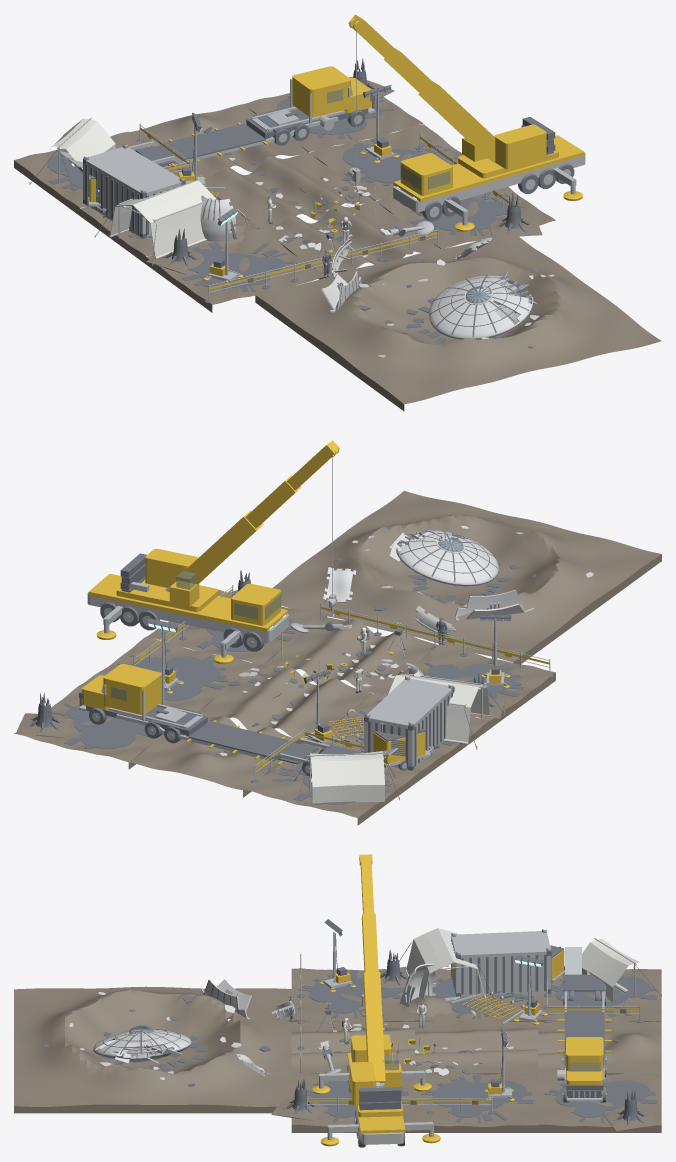
File: ufo-crash-site-and-recovery-facility-cra-b0569196-starter-scene__17375.glb
3 renders of one model, top to bottom at view 1: azimuth 30°, elevation 25°; view 2: azimuth 150°, elevation 25°; view 3: azimuth 270°, elevation 25°, orthographic. The views are drawn at different scales.
Visible parts, largest first — view 1: 000-impact-crater/0, 028-heavy-lift-crane/1, 002-crash-furrow-tile/0, 001-crash-furrow-tile/0, 010-scout-disc-damaged/0, 032-tarpaulin-cover-frame/1, 037-transport-crate/0, 004-scorched-ground-tile/0, 003-crash-furrow-tile-end/0, 028-heavy-lift-crane/boom, 047-recovery-tractor-unit/22, 007-scorched-ground-tile/0 (+23 smaller); view 2: 000-impact-crater/0, 028-heavy-lift-crane/1, 002-crash-furrow-tile/0, 001-crash-furrow-tile/0, 003-crash-furrow-tile-end/0, 037-transport-crate/0, 010-scout-disc-damaged/0, 033-field-tent/0, 028-heavy-lift-crane/boom, 008-scorched-ground-tile/0, 004-scorched-ground-tile/0, 047-recovery-tractor-unit/22 (+24 smaller); view 3: 000-impact-crater/0, 002-crash-furrow-tile/0, 037-transport-crate/0, 007-scorched-ground-tile/0, 003-crash-furrow-tile-end/0, 001-crash-furrow-tile/0, 009-scorched-ground-tile/0, 028-heavy-lift-crane/1, 028-heavy-lift-crane/boom, 004-scorched-ground-tile/0, 007-scorched-ground-tile/1, 008-scorched-ground-tile/0 (+28 smaller).
Boxes of the visible parts, x1,y1,x2,y2 form: 000-impact-crater/0: (255, 235, 661, 411); 028-heavy-lift-crane/1: (393, 124, 584, 231); 002-crash-furrow-tile/0: (204, 152, 374, 228); 001-crash-furrow-tile/0: (262, 201, 439, 279); 010-scout-disc-damaged/0: (429, 271, 536, 338); 032-tarpaulin-cover-frame/1: (109, 180, 216, 258); 037-transport-crate/0: (83, 144, 184, 237); 004-scorched-ground-tile/0: (146, 228, 324, 312); 003-crash-furrow-tile-end/0: (129, 104, 308, 178); 028-heavy-lift-crane/boom: (348, 14, 495, 162); 047-recovery-tractor-unit/22: (292, 66, 372, 117); 007-scorched-ground-tile/0: (310, 124, 463, 200); 000-impact-crater/0: (273, 490, 661, 664); 028-heavy-lift-crane/1: (88, 548, 287, 664); 002-crash-furrow-tile/0: (198, 666, 373, 740); 001-crash-furrow-tile/0: (261, 617, 439, 694); 003-crash-furrow-tile-end/0: (129, 716, 303, 797); 037-transport-crate/0: (364, 676, 454, 769); 010-scout-disc-damaged/0: (389, 530, 498, 584); 033-field-tent/0: (309, 751, 384, 803); 028-heavy-lift-crane/boom: (170, 440, 339, 585); 008-scorched-ground-tile/0: (243, 744, 423, 825); 004-scorched-ground-tile/0: (376, 644, 555, 728); 047-recovery-tractor-unit/22: (82, 664, 161, 714); 000-impact-crater/0: (14, 986, 291, 1113); 002-crash-furrow-tile/0: (415, 1021, 538, 1074); 037-transport-crate/0: (451, 929, 551, 996); 007-scorched-ground-tile/0: (415, 1073, 538, 1132); 003-crash-furrow-tile-end/0: (538, 1021, 661, 1074); 001-crash-furrow-tile/0: (291, 1021, 414, 1073); 009-scorched-ground-tile/0: (538, 1073, 661, 1132); 028-heavy-lift-crane/1: (312, 1034, 440, 1146); 028-heavy-lift-crane/boom: (359, 854, 385, 1083); 004-scorched-ground-tile/0: (291, 968, 414, 1021); 007-scorched-ground-tile/1: (421, 1075, 533, 1122); 008-scorched-ground-tile/0: (538, 969, 661, 1021).
Bounding box in the file's own units: 30.12 × 14.79 × 42.01.
